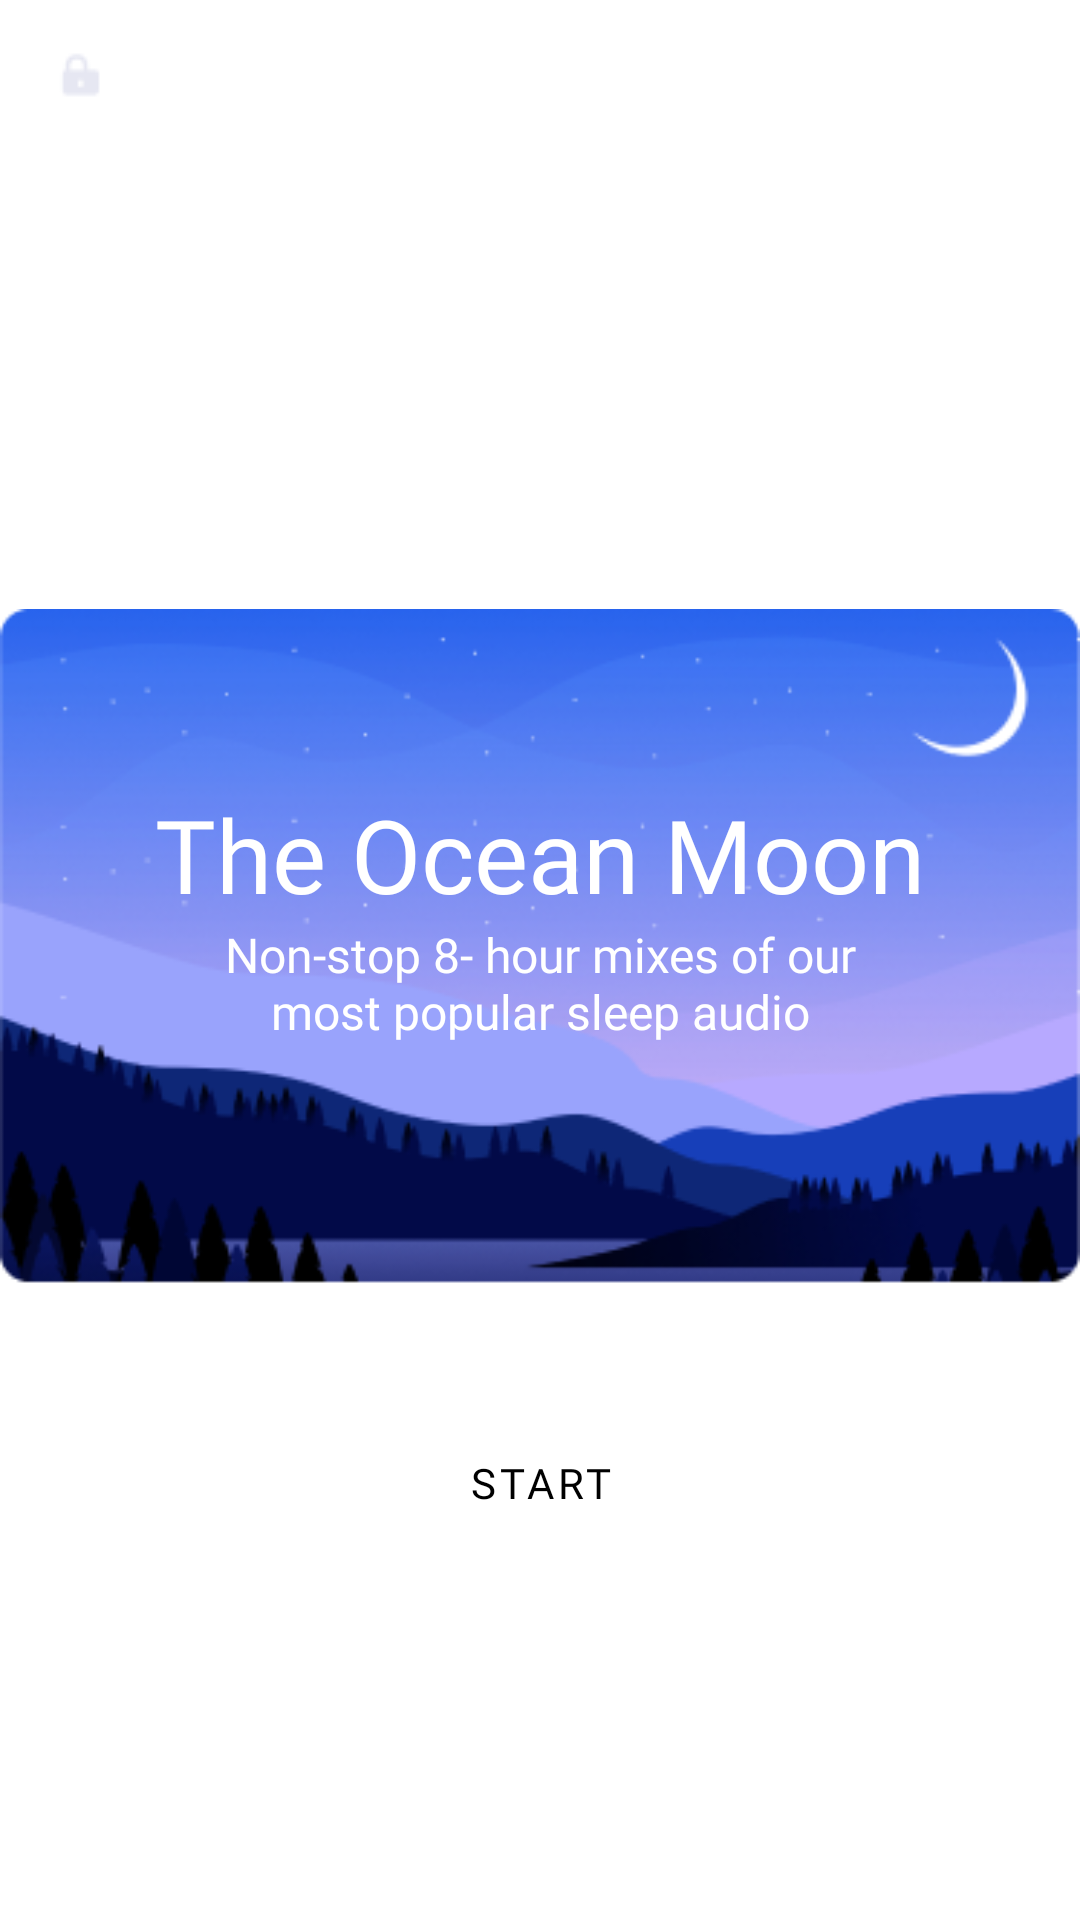

Screen size 1080*1920. Icon name, then its center in pixels as (x=x, y=y):
lock: (x=81, y=75)
